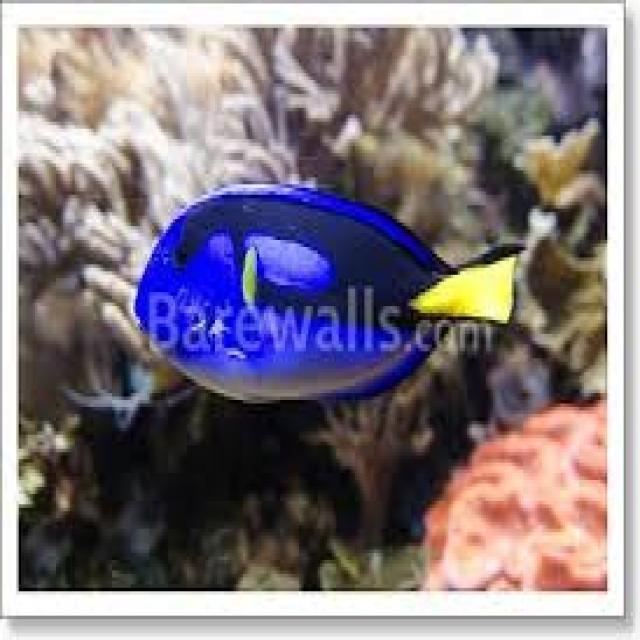TangFish: (128, 182, 524, 408)
